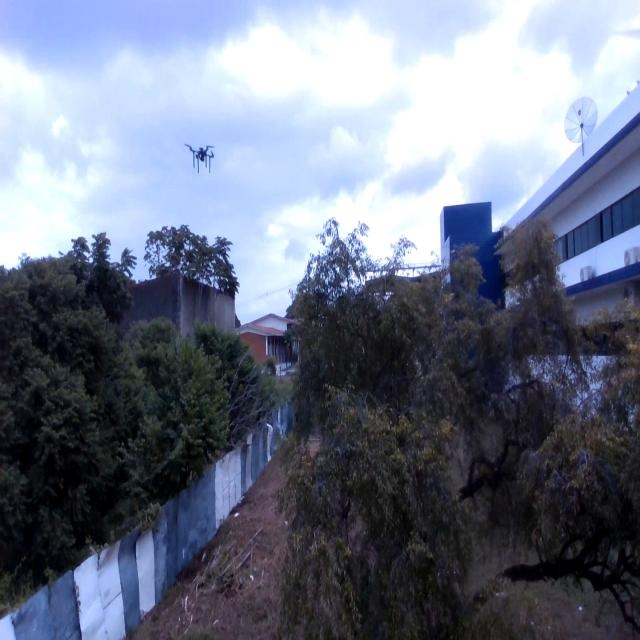-uav-: (178, 130, 220, 181)
